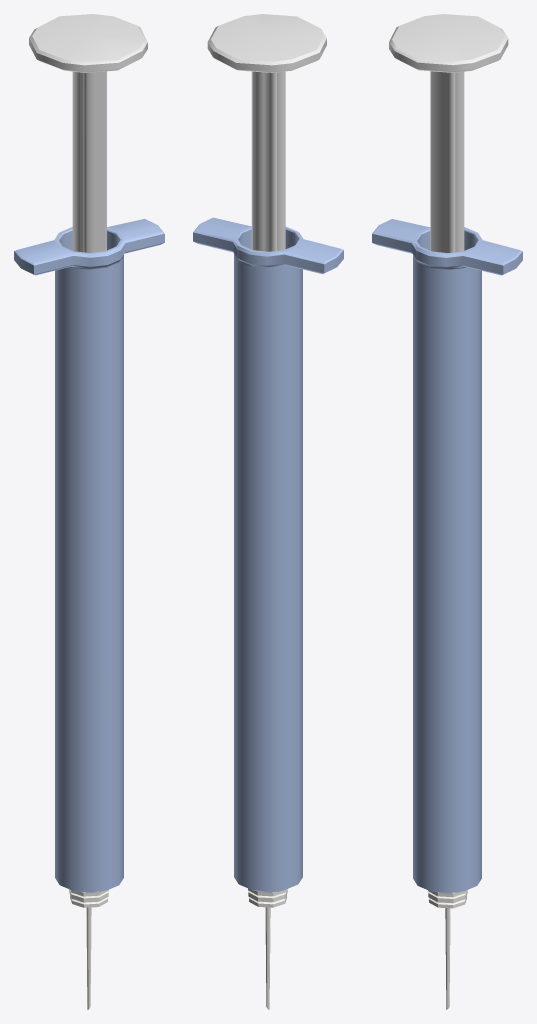
The model's file is insulin_shpritz.fbx.
3 renders of one model, left to right at view 1: azimuth 30°, elevation 25°; view 2: azimuth 150°, elevation 25°; view 3: azimuth 330°, elevation 25°, orthographic.
Parts seen in each view (by area): view 1: insulin_shpritz; view 2: insulin_shpritz; view 3: insulin_shpritz.
Boxes of the visible parts, x1,y1,x2,y2 form: insulin_shpritz: [14, 14, 164, 1009]; insulin_shpritz: [193, 14, 343, 1009]; insulin_shpritz: [372, 14, 522, 1009].
Size of the model in its own units: 109 by 739 by 85.05.
